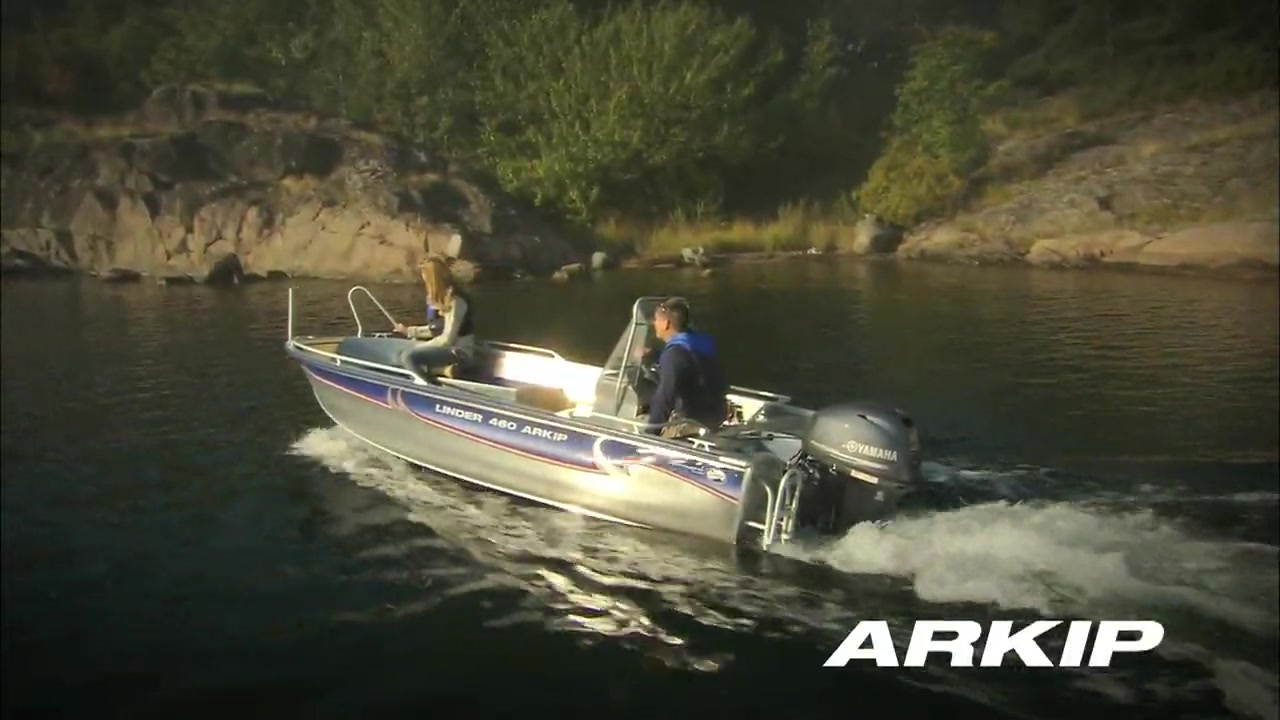boat: (287, 279, 947, 570)
